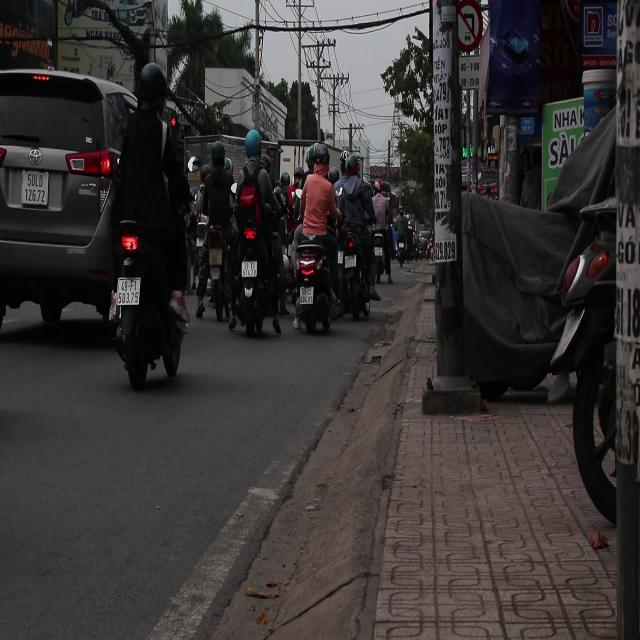motorbike: (109, 215, 177, 387), (239, 202, 282, 336), (289, 235, 340, 336), (335, 216, 378, 324), (192, 216, 234, 322)
truck: (0, 67, 140, 342)
